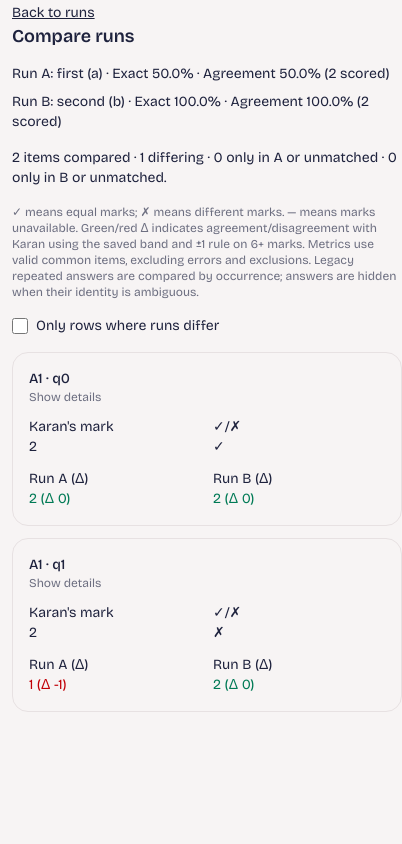
Test: shows the legacy identity warning and rendered feedback without exposing an answer
The width and height of the screenshot is (402, 844).
Click the button with aria-label "Expand A1 q0": (65, 397) x1=29 y1=369 x2=385 y2=405
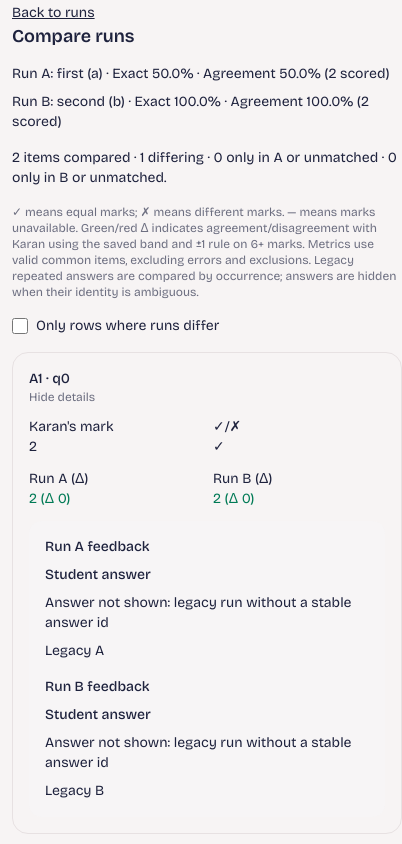
Expected: the text "Answer not shown: legacy run without a stable answer id" is shown 2 times, x1=45 y1=593 x2=369 y2=633; x1=45 y1=733 x2=369 y2=773
Expected: the text "Legacy A" is shown, x1=45 y1=642 x2=104 y2=659
Expected: the text "Legacy B" is shown, x1=45 y1=782 x2=104 y2=799
